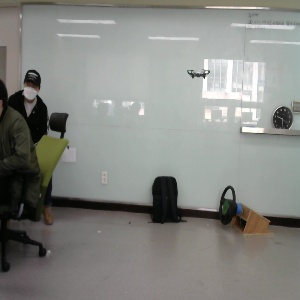Drone: (186, 64, 215, 88)
